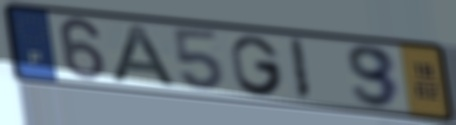5: (169, 27, 227, 93)
6: (57, 16, 108, 82)
9: (344, 43, 404, 111)
A: (109, 22, 181, 90)
G: (228, 33, 286, 98)
I: (286, 36, 314, 104)
